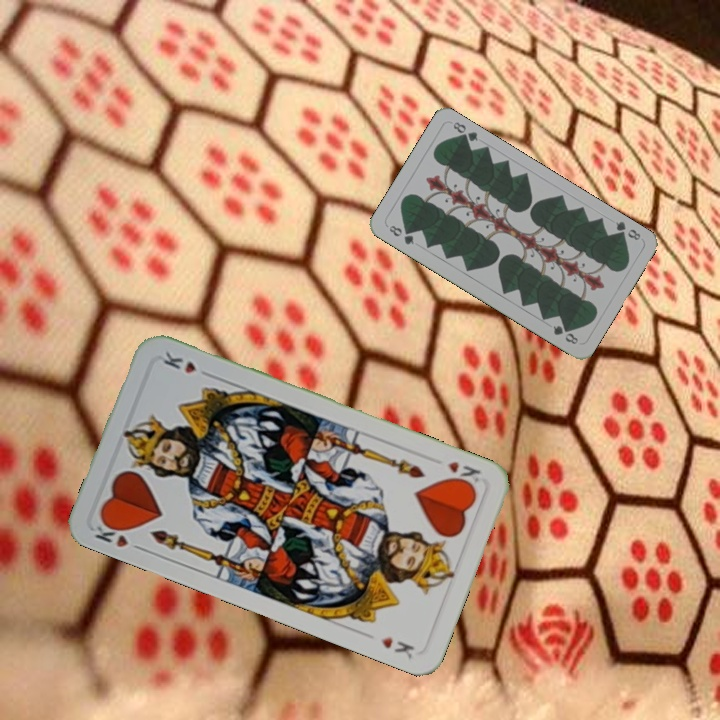G8: (611, 217, 643, 243), (385, 221, 416, 247)
HK: (90, 515, 147, 554), (444, 457, 484, 490)
